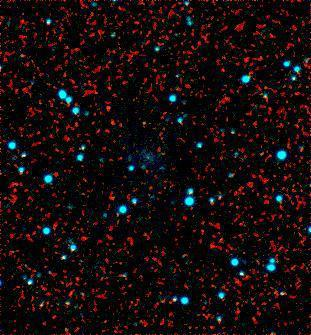star: (102, 198, 132, 228)
